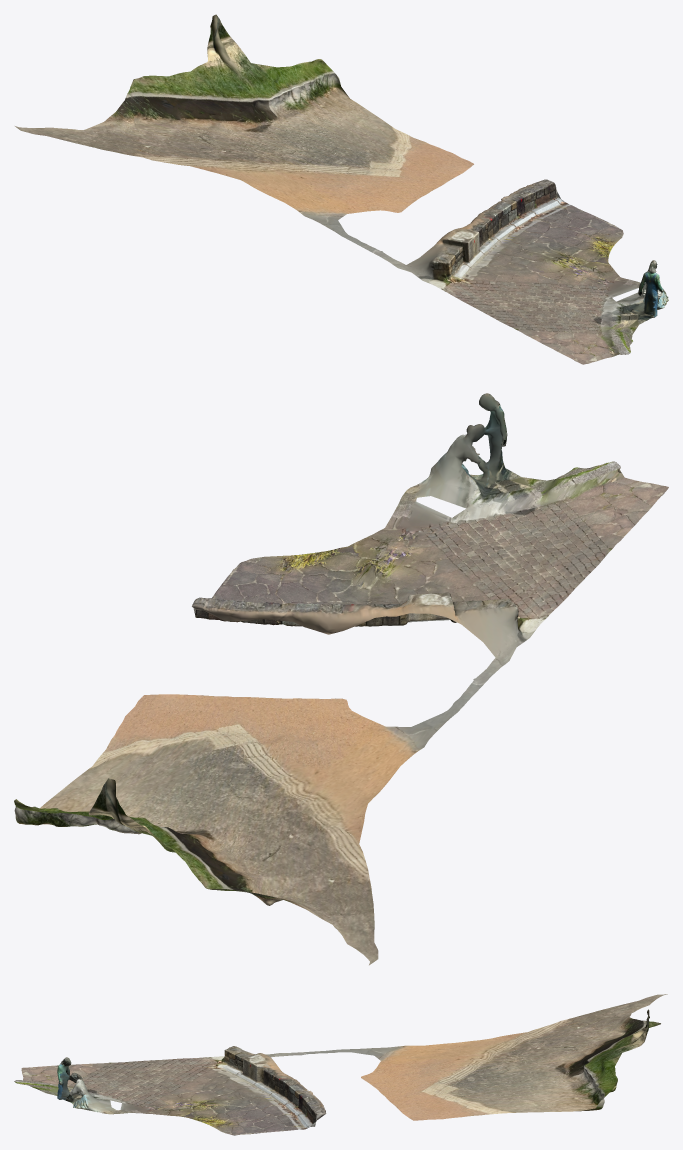
The picture shows the model from 3 angles, top to bottom: view 1: azimuth 30°, elevation 25°; view 2: azimuth 150°, elevation 25°; view 3: azimuth 270°, elevation 25°; orthographic projection. The views are drawn at different scales.
Parts seen in each view (by area): view 1: baked_mesh_6d85967d; view 2: baked_mesh_6d85967d; view 3: baked_mesh_6d85967d.
Part boxes in pixels (x1,y1,x2,y2): baked_mesh_6d85967d: (15, 14, 668, 364); baked_mesh_6d85967d: (14, 393, 668, 965); baked_mesh_6d85967d: (14, 994, 667, 1135).
Size of the model in its own units: 0.9092 by 0.1904 by 1.77.
Materials: 1 (1 with a texture image).
